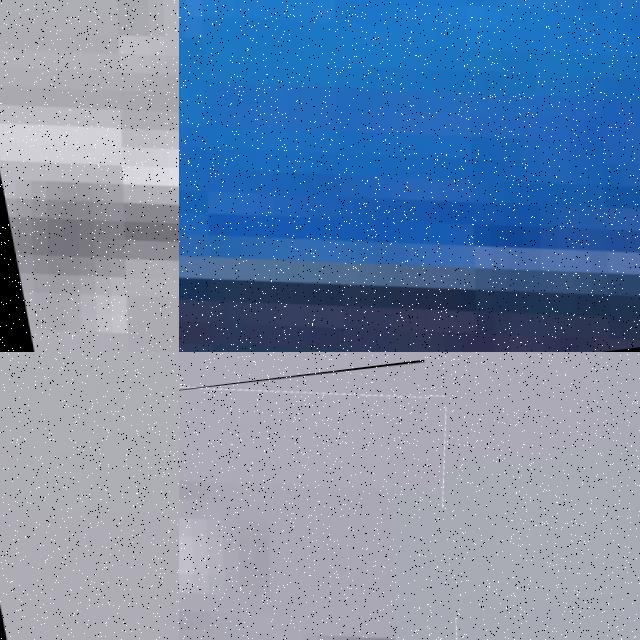0: (179, 359, 478, 640), (0, 0, 179, 352), (0, 352, 179, 640)
drone: (179, 0, 640, 352)
